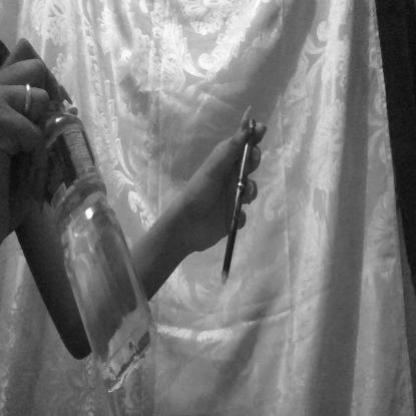Plastic Bottle: (24, 50, 165, 403)
